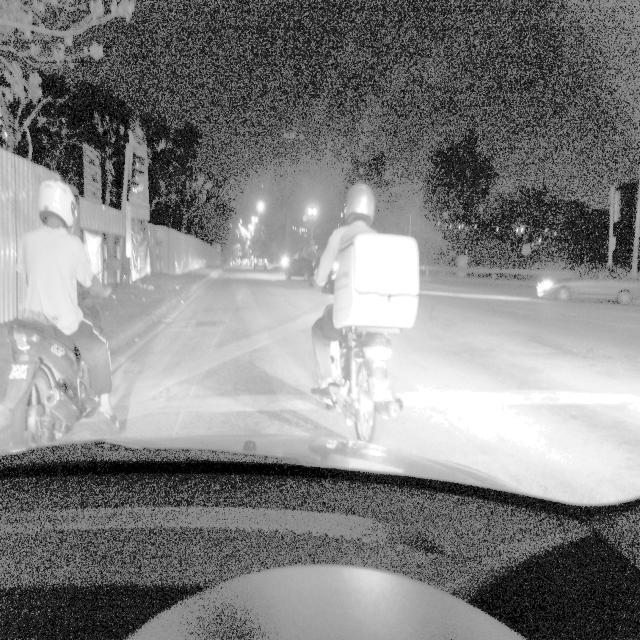Motorcycle: (312, 233, 436, 461), (4, 314, 128, 448)
Person: (14, 166, 145, 444), (301, 166, 405, 414)
